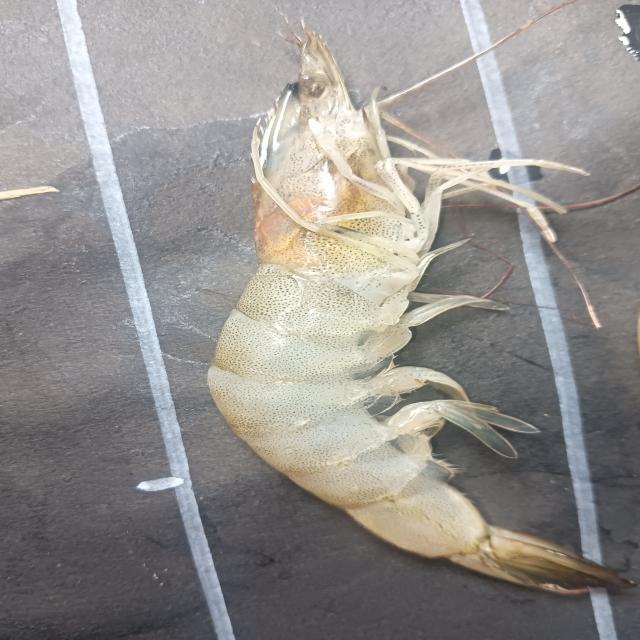shrimp: (208, 31, 633, 594)
